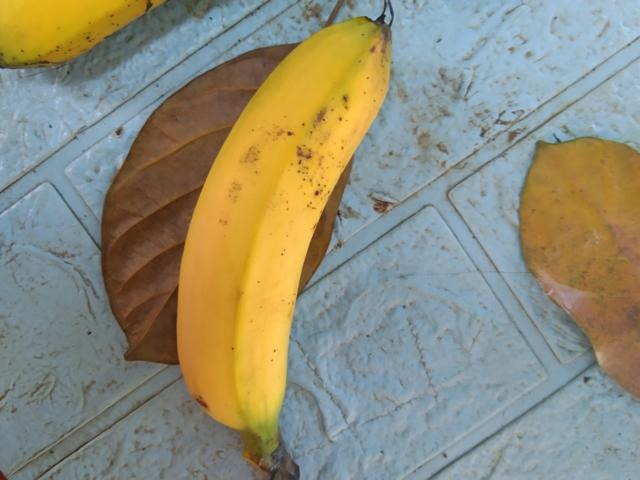ripe: (156, 25, 405, 475)
